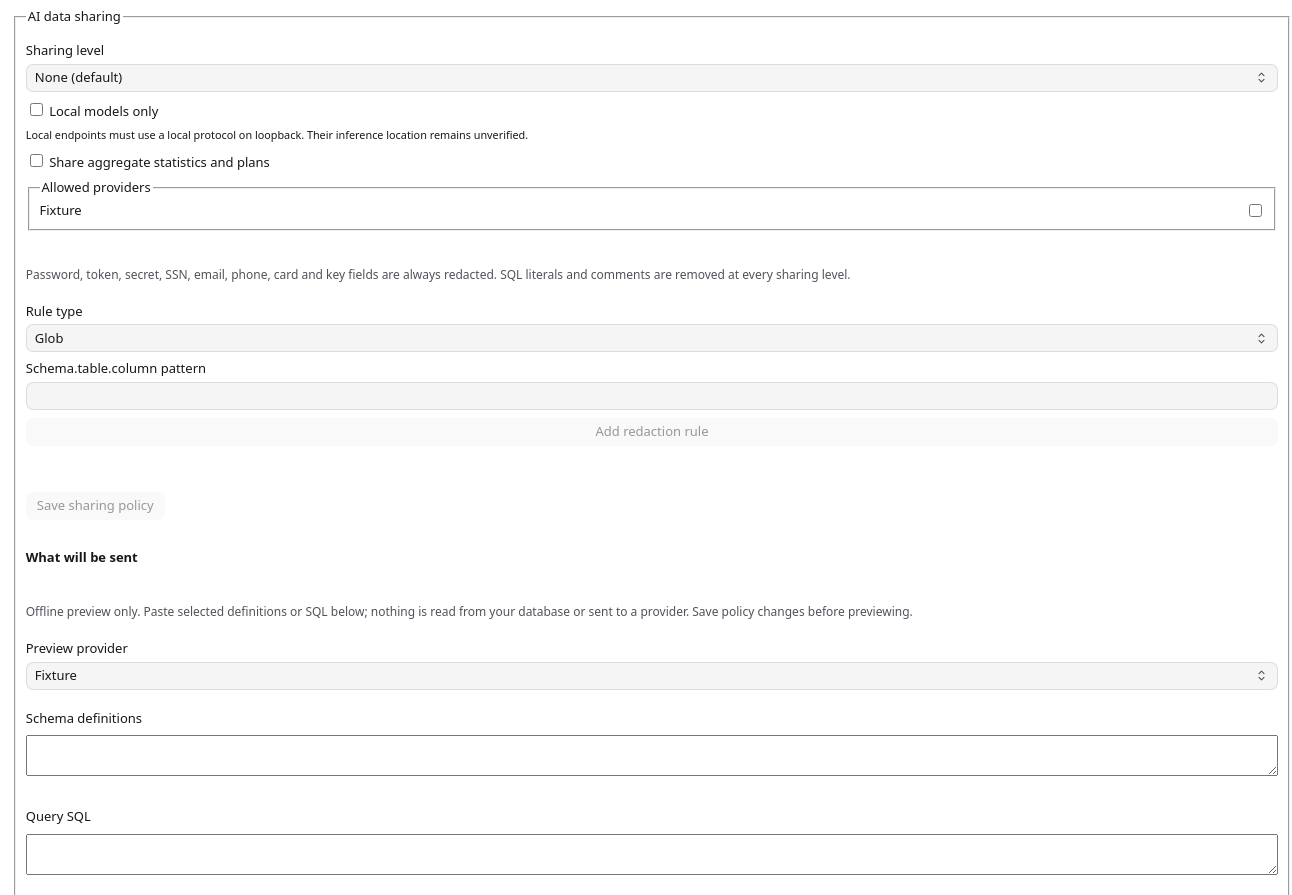
keeps unsaved policy after persistence failure and disables preview while AI is off
The width and height of the screenshot is (1292, 895).
Select "Schema only" in the dropdown labelled "Sharing level". click: x=652, y=78
box: [27, 65, 1277, 91]
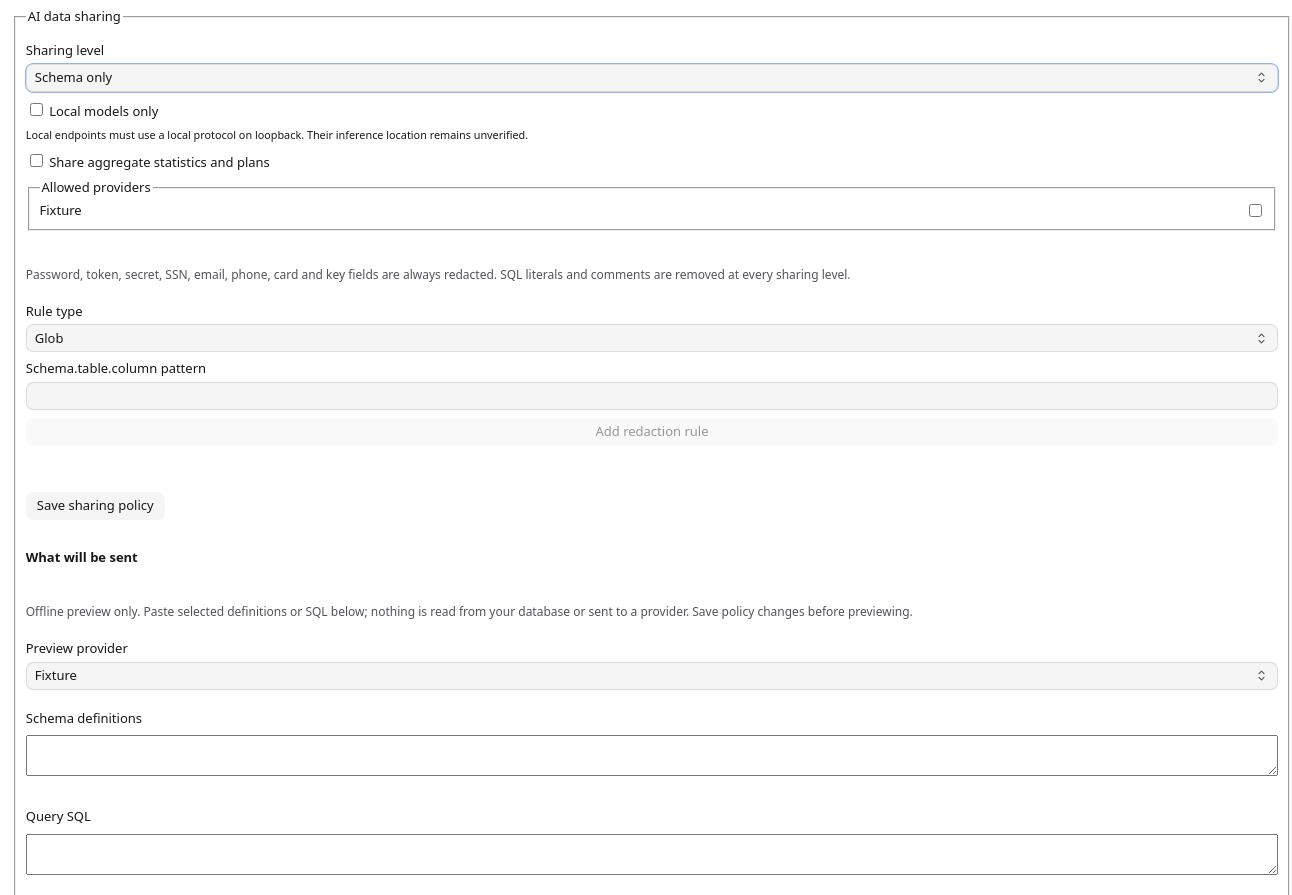
Click the button "Save sharing policy". click: x=95, y=506
box: [26, 492, 165, 520]
(page scrolled)
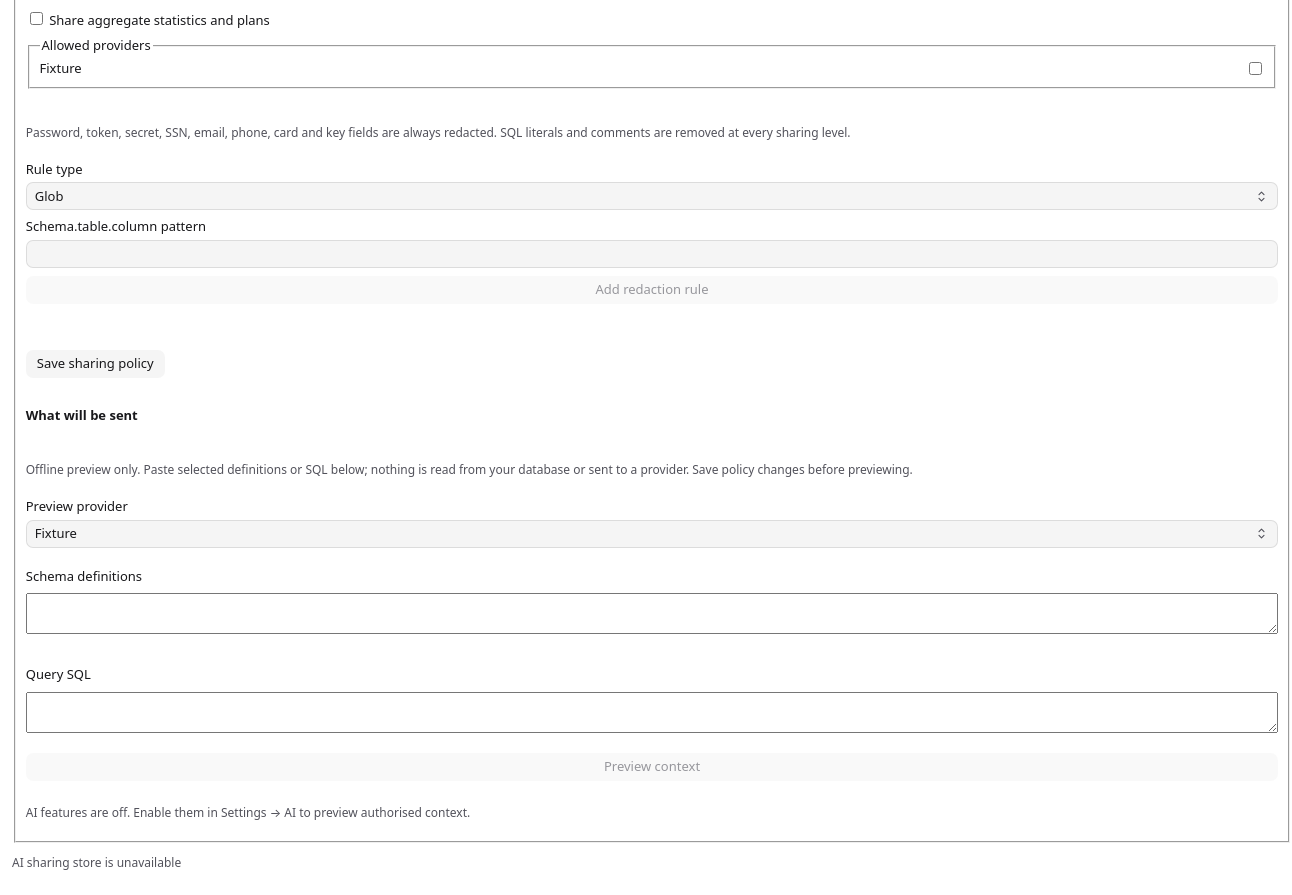
Expected: the button "Preview context" is disabled, [26, 753, 1278, 781]
Expected: the message reads "AI sharing store is unavailable", [12, 854, 181, 871]
